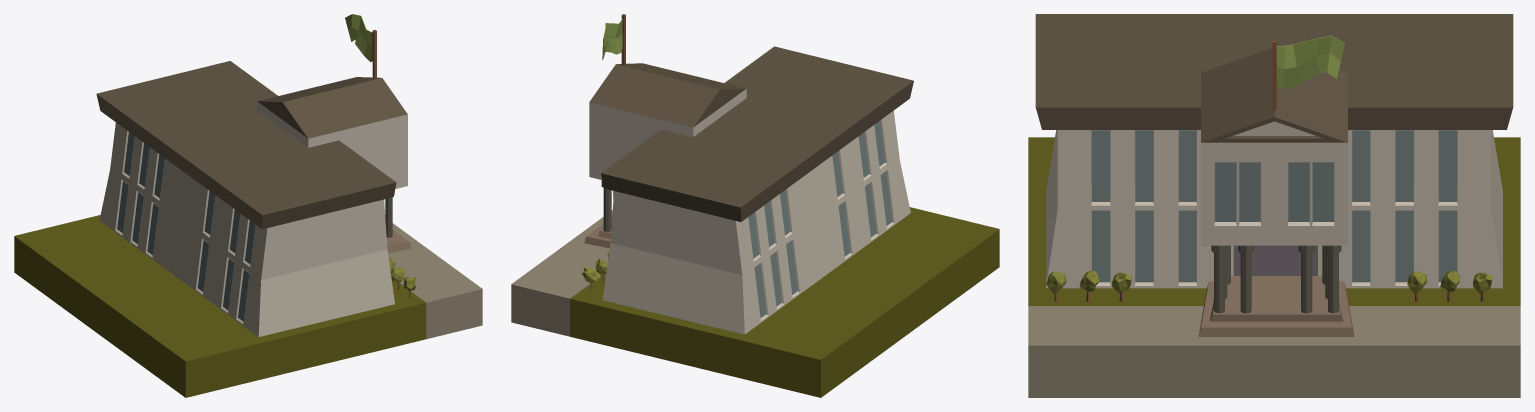
The model's file is Prefeitura.fbx.
3 renders of one model, left to right at view 1: azimuth 30°, elevation 25°; view 2: azimuth 150°, elevation 25°; view 3: azimuth 270°, elevation 25°, orthographic. The views are drawn at different scales.
Visible parts, largest first — view 1: Prefeitura; view 2: Prefeitura; view 3: Prefeitura.
Part boxes in pixels (x1=…): Prefeitura: x1=14, y1=14, x2=482, y2=397; Prefeitura: x1=511, y1=14, x2=999, y2=397; Prefeitura: x1=1028, y1=14, x2=1520, y2=397.
Size of the model in its own units: 200 by 155 by 200.
